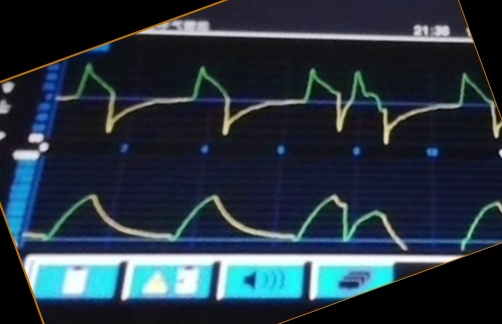Double_Triggering Flow: (69, 58, 479, 145)
Double_Triggering Volume: (41, 184, 484, 249)
